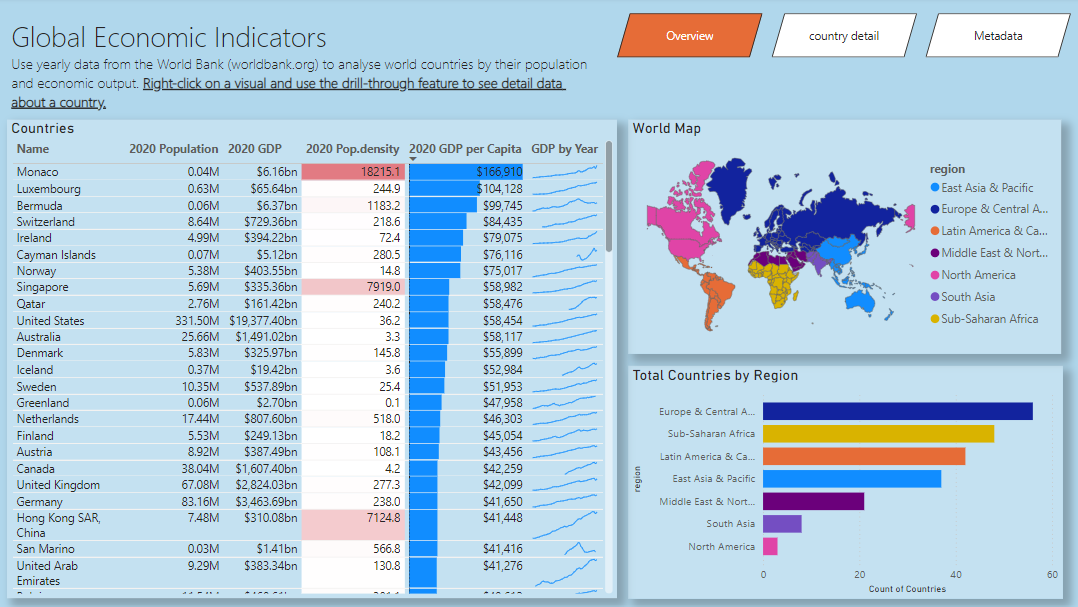

The page's visual inventory and layout, read from the dashboard file:
{"tool":"powerbi","page":{"name":"Overview","canvas":[1280,720],"ordinal":0},"visuals":[{"type":"tableEx","title":"Countries","fields":{"Values":["Countries.name","_Measure.2020 Population","_Measure.2020 GDP","_Measure.2020 Pop.density","_Measure.2020 GDP per Capita","SparklineData(_Measure.GDP_[Indicators.Year])"]},"box":[23.1,141.4,704.1,552.6],"z":0},{"type":"shapeMap","title":"World Map","fields":{"Category":["Countries.iso2Code"],"Series":["Countries.region.value"],"Value":["CountNonNull(Countries.id)"]},"box":[740,141.4,500,270],"z":1000},{"type":"clusteredBarChart","title":"Total Countries by Region","fields":{"Category":["Countries.region"],"Y":["Count(Countries)"]},"box":[740,425.7,501.4,268.6],"z":2000},{"type":"pageNavigator","box":[727.4,18.2,524.6,51.8],"z":3000},{"type":"textbox","box":[22.9,18.6,675.7,122.9],"z":4000}]}

Visuals, with their boxes in screenshot pixels (x1, y1, x2, y2), scaled from the page's 1280x720 canvas onto the 1078x607 screenshot:
"Countries" tableEx: bbox(19, 119, 612, 585)
"World Map" shapeMap: bbox(623, 119, 1044, 347)
"Total Countries by Region" clusteredBarChart: bbox(623, 359, 1045, 585)
pageNavigator: bbox(613, 15, 1054, 59)
textbox: bbox(19, 16, 588, 119)
